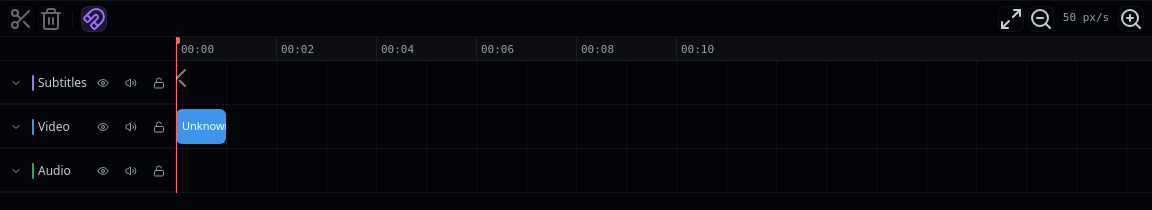
Test case: timeline context menu › right-clicking a clip opens a menu with Split and Delete
This screenshot has width=1152, height=210.
Right-click the button "Unknown clip" at (201, 126), box [176, 109, 226, 144]
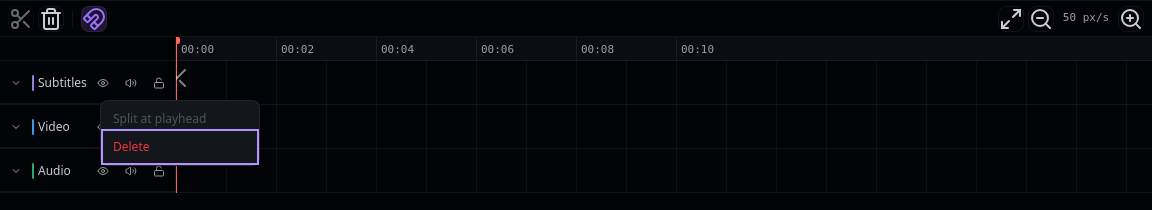
Expected: the menu item "Delete" is shown, [105, 133, 255, 161]
Expected: the menu item "Split at playhead" is disabled, [105, 105, 255, 133]
